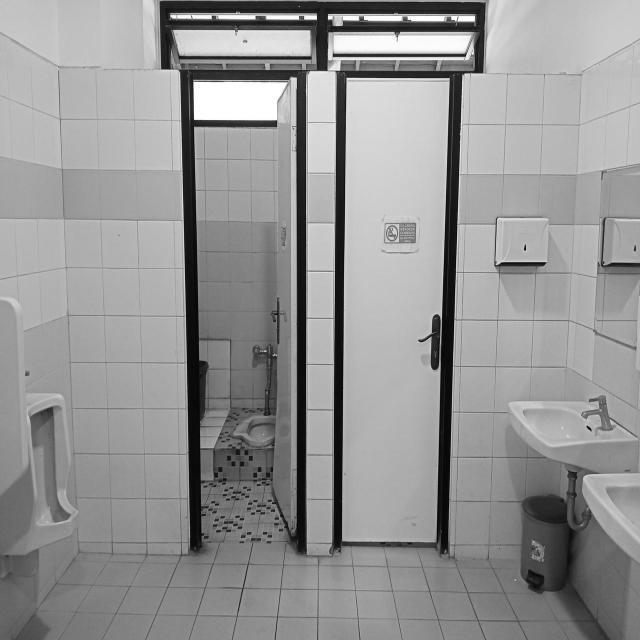door: (332, 66, 464, 556)
